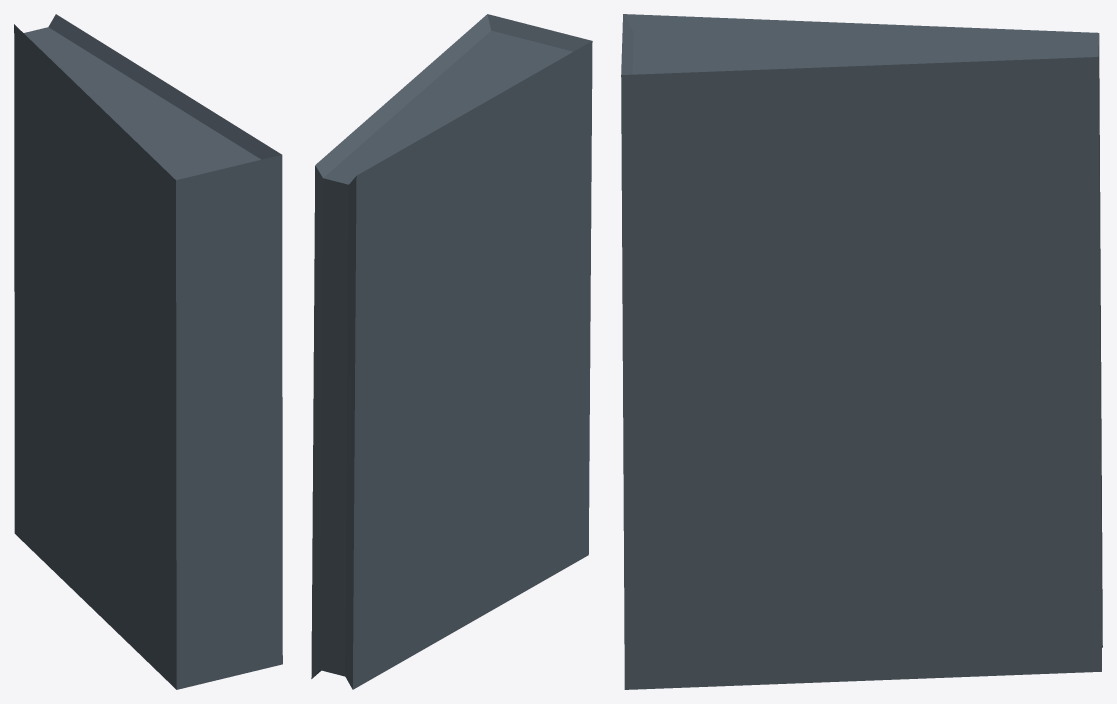
The model's file is 09_file_binder.glb.
3 renders of one model, left to right at view 1: azimuth 30°, elevation 25°; view 2: azimuth 150°, elevation 25°; view 3: azimuth 270°, elevation 25°, orthographic. The views are drawn at different scales.
Parts seen in each view (by area): view 1: file_binder; view 2: file_binder; view 3: file_binder.
Boxes of the visible parts, bbox=[...] form: file_binder: bbox=[14, 14, 282, 689]; file_binder: bbox=[311, 14, 592, 689]; file_binder: bbox=[621, 14, 1102, 689].
Size of the model in its own units: 0.093 by 0.4243 by 0.3006.
